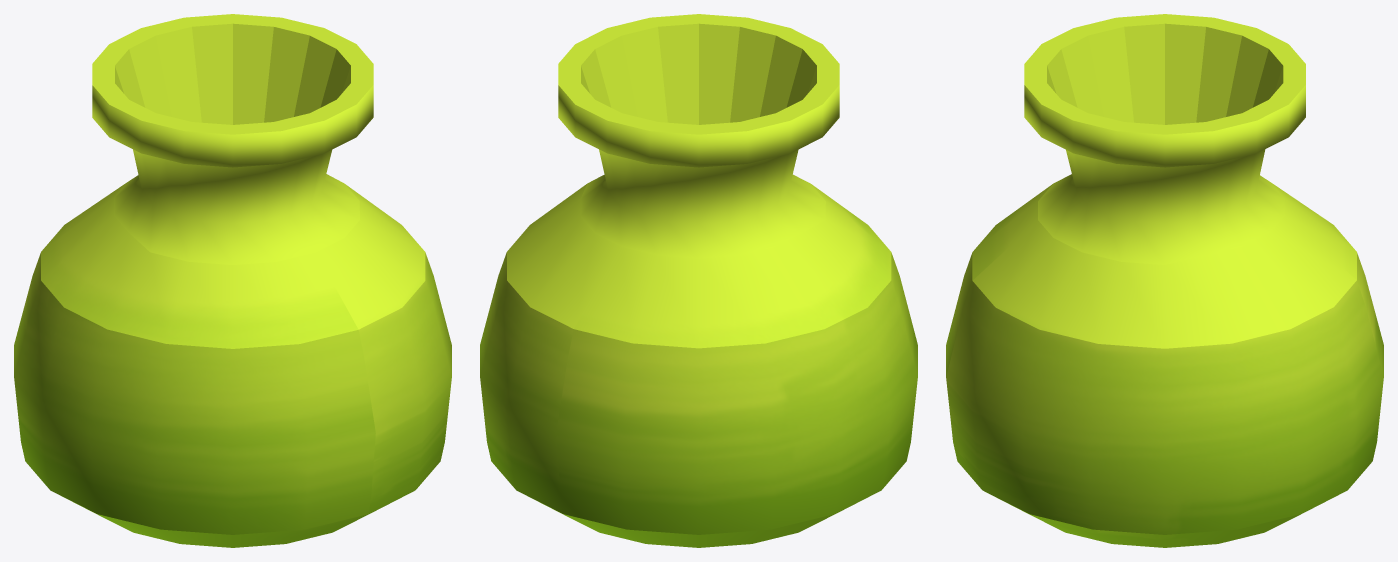
Rendered from m_round_pot_little.FBX.
3 views of the same model, side by side, from view 1: azimuth 30°, elevation 25°; view 2: azimuth 150°, elevation 25°; view 3: azimuth 270°, elevation 25° (orthographic).
Visible parts, largest first — view 1: pot_2; view 2: pot_2; view 3: pot_2.
Part boxes in pixels (x1,y1,x2,y2): pot_2: (14, 14, 451, 547); pot_2: (480, 14, 917, 547); pot_2: (946, 14, 1383, 547).
Size of the model in its own units: 19.1 by 19.34 by 18.81.
